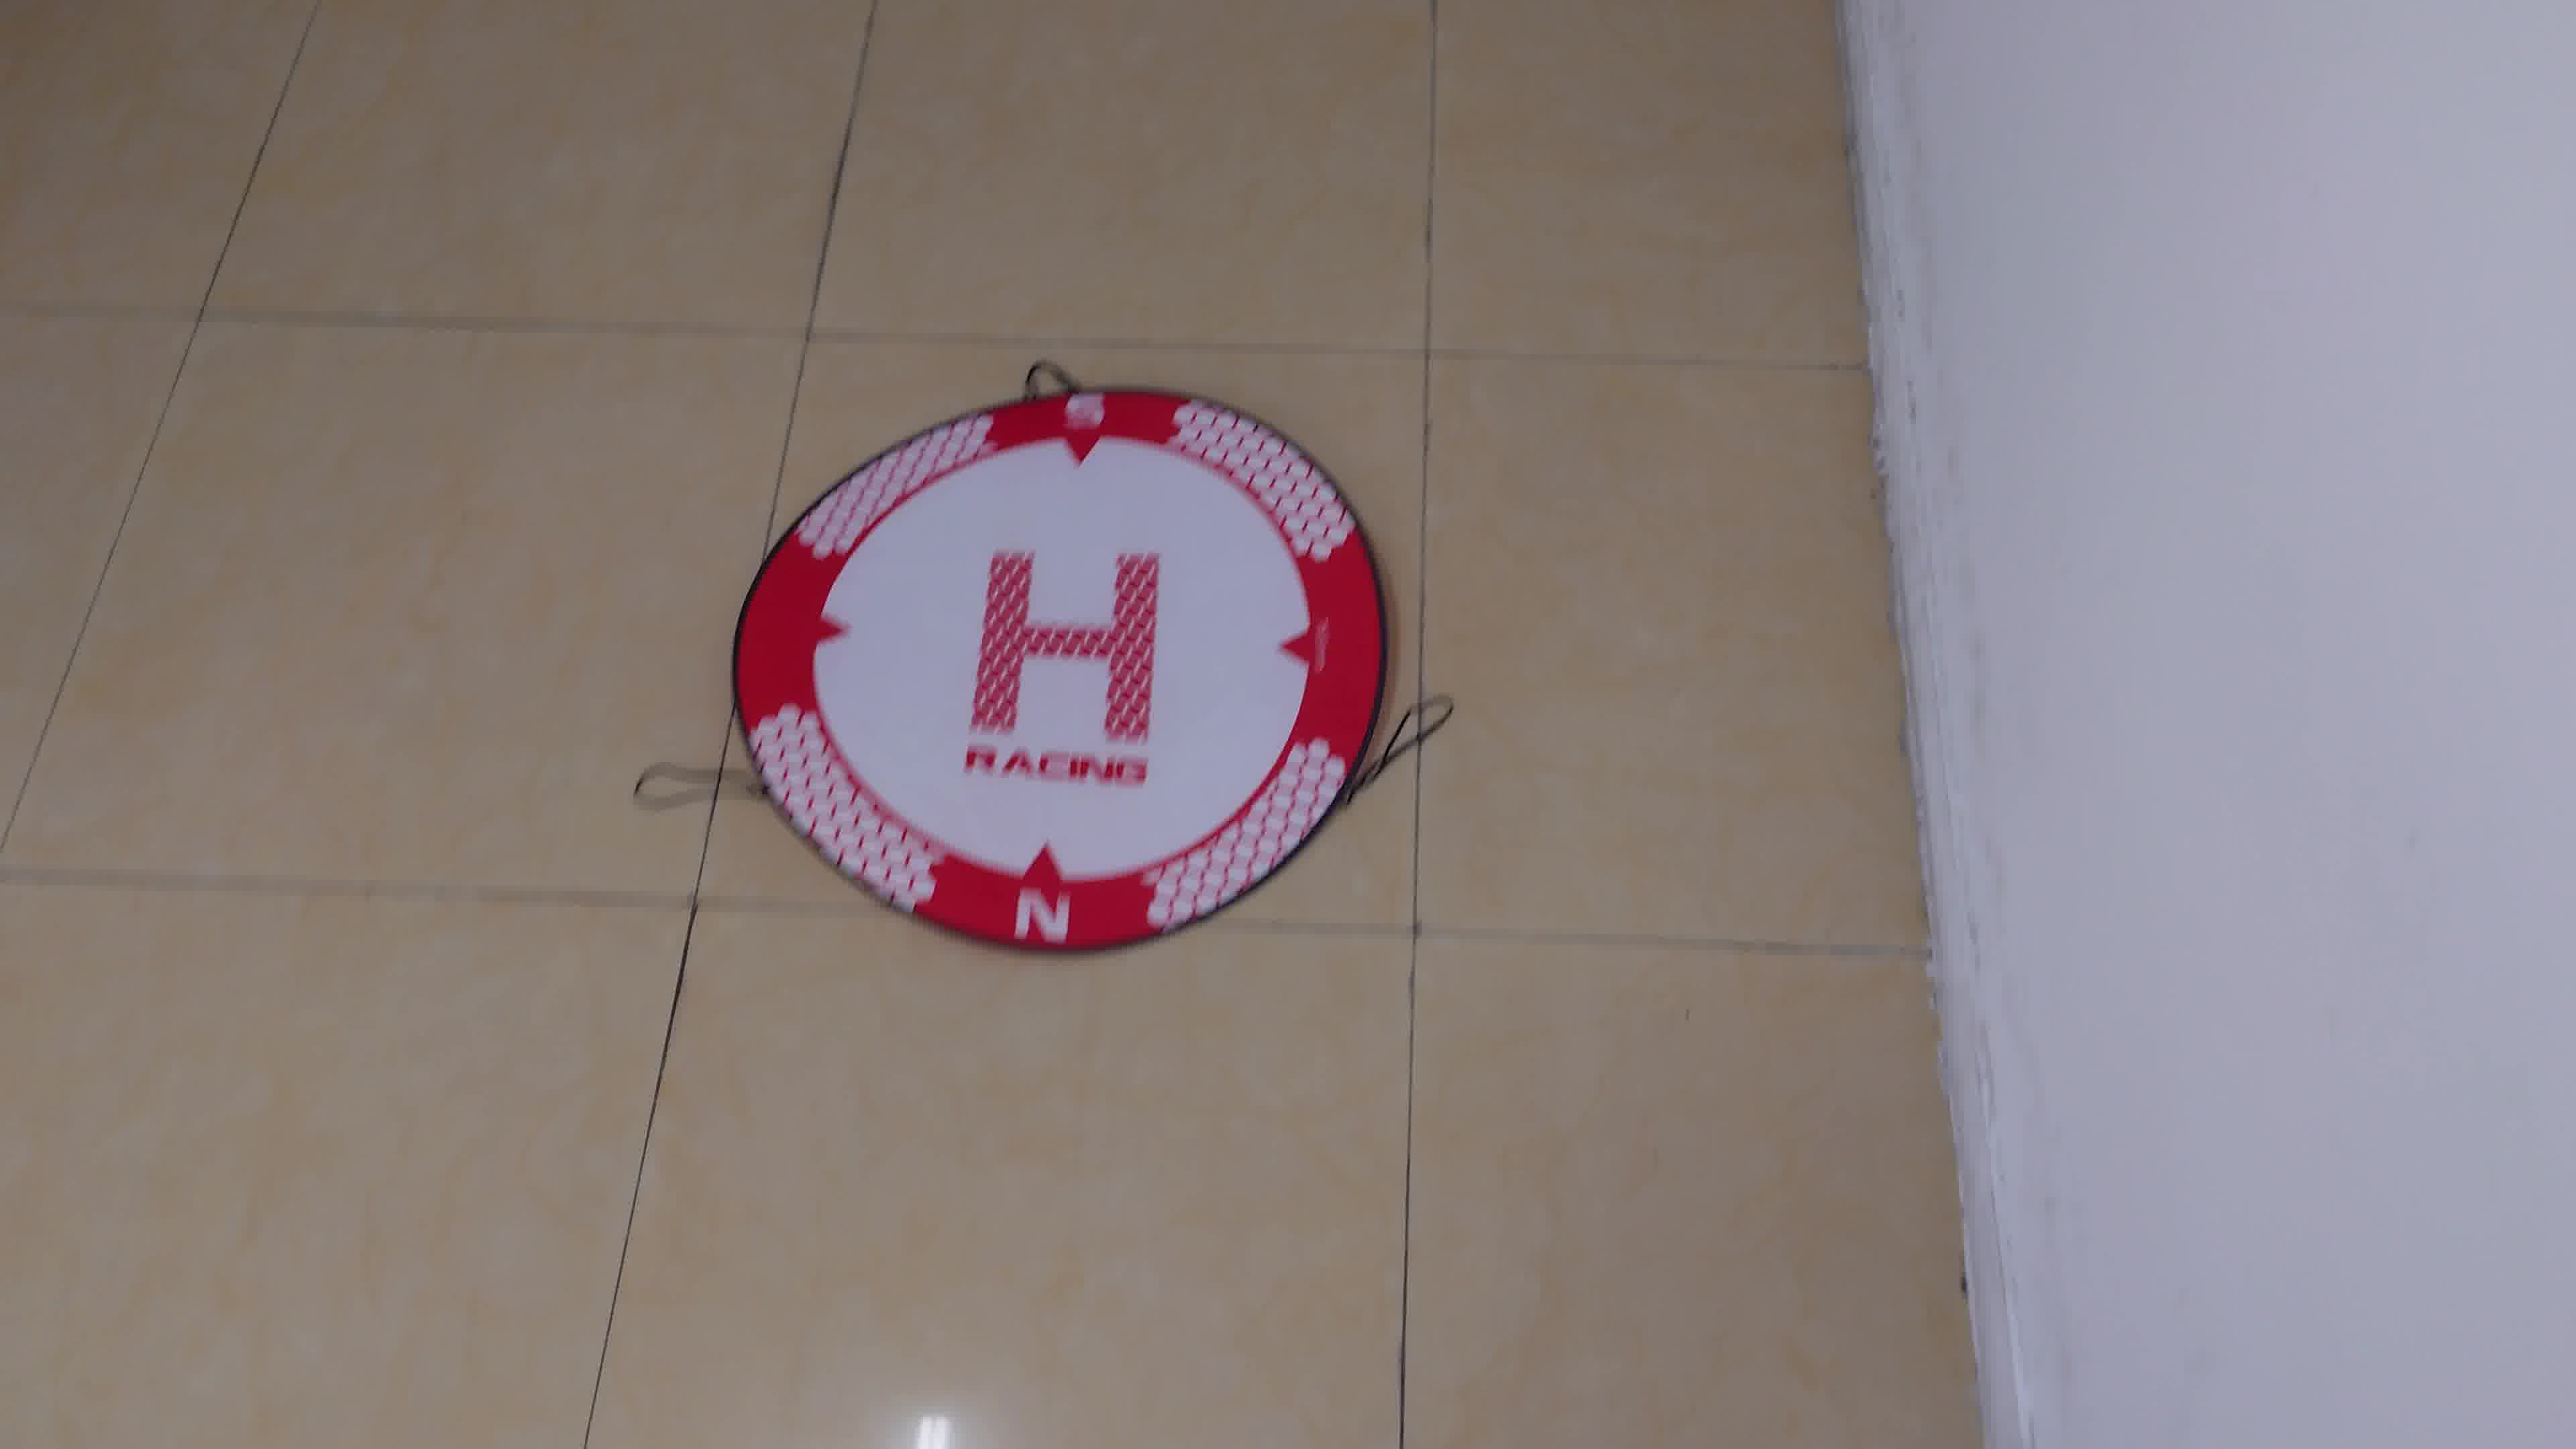H: (968, 547, 1159, 743)
